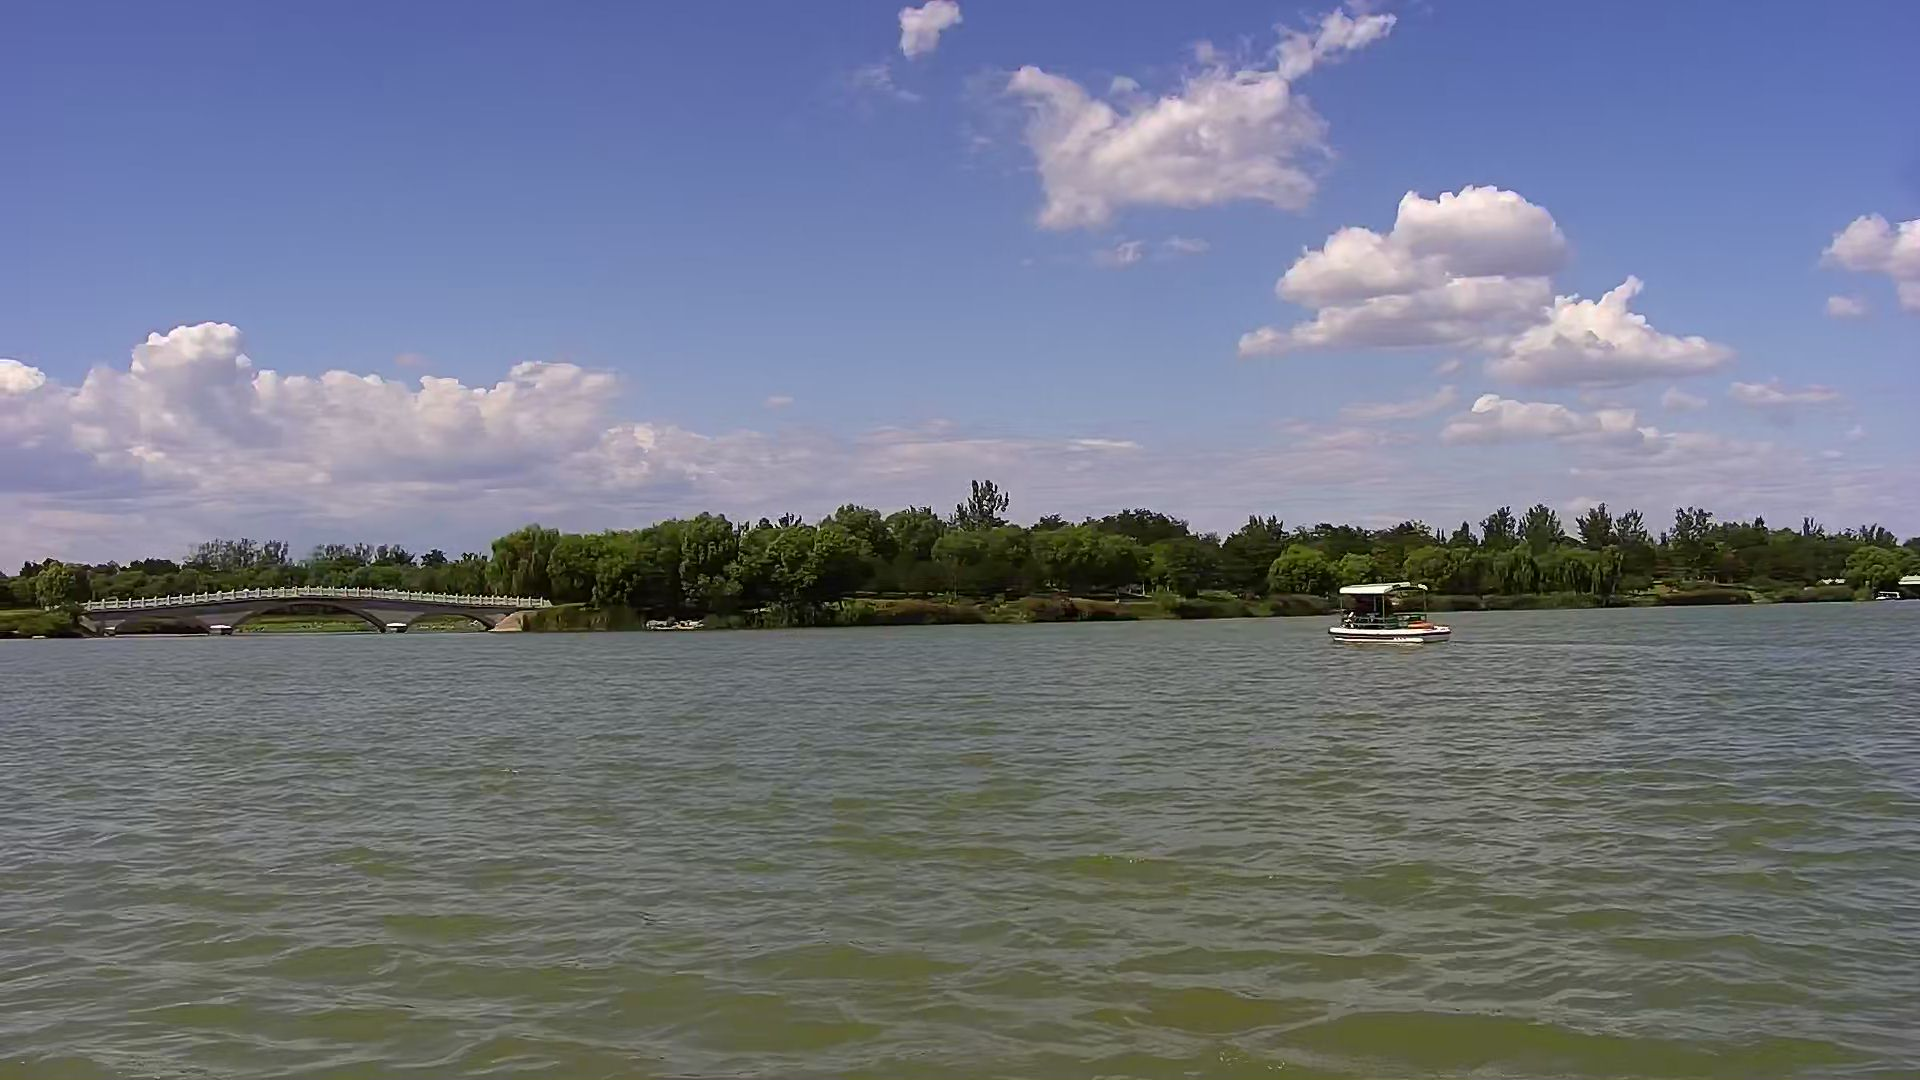boat: (1327, 580, 1452, 647)
bridge: (78, 593, 525, 637)
